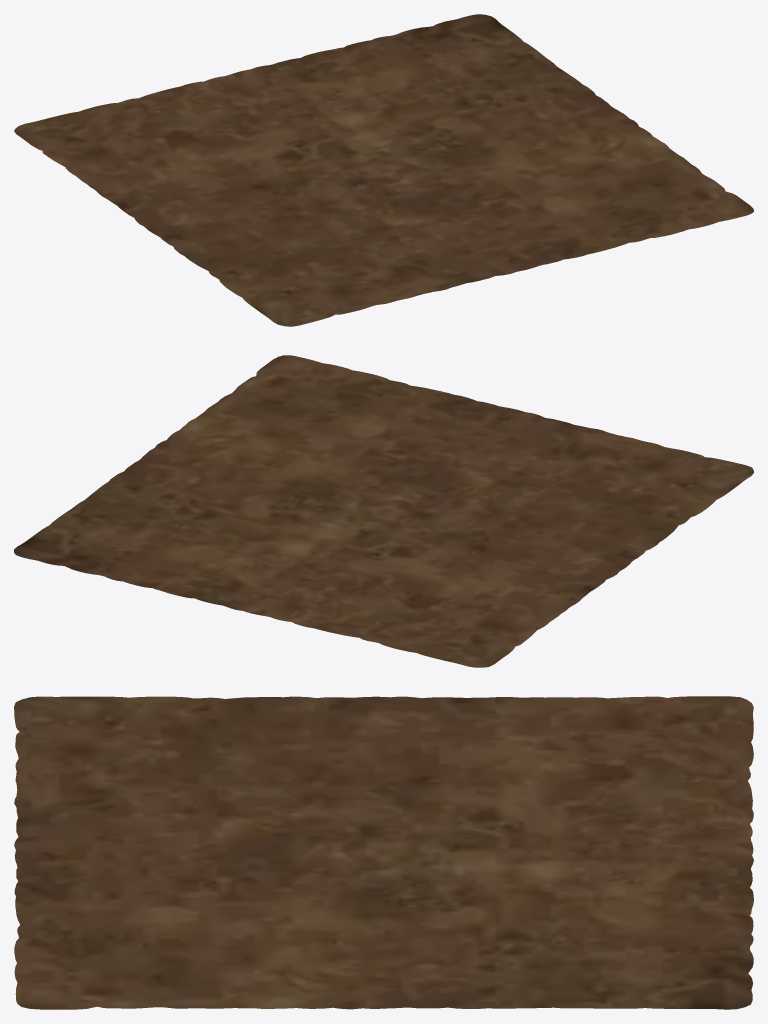
3 views of the same model, one above another, from view 1: azimuth 30°, elevation 25°; view 2: azimuth 150°, elevation 25°; view 3: azimuth 270°, elevation 25° (orthographic). The views are drawn at different scales.
Size of the model in its own units: 49.91 by 0.0305 by 49.82.
Materials: 1 (1 with a texture image).
